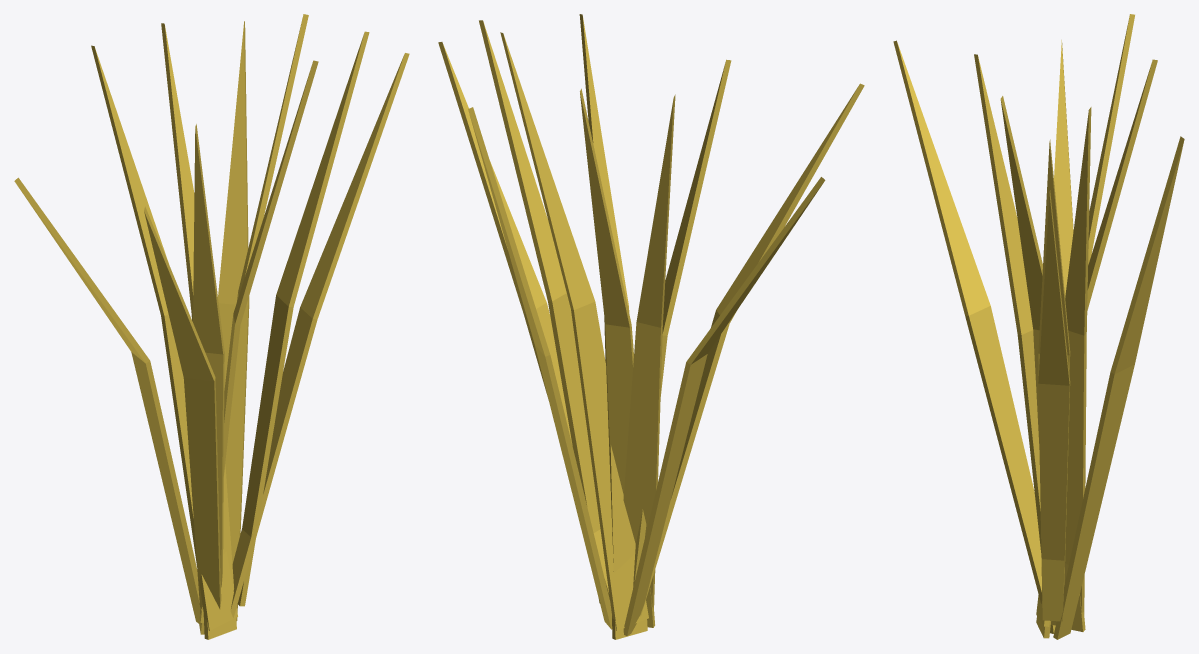
Rendered from espigas.glb.
3 renders of one model, left to right at view 1: azimuth 30°, elevation 25°; view 2: azimuth 150°, elevation 25°; view 3: azimuth 270°, elevation 25°, orthographic.
Visible parts, largest first — view 1: Plane.001; view 2: Plane.001; view 3: Plane.001.
Part boxes in pixels (x1,y1,x2,y2): Plane.001: [14, 14, 409, 639]; Plane.001: [438, 14, 864, 639]; Plane.001: [893, 14, 1184, 639].
Bounding box in the file's own units: 1.62 × 2.3 × 1.05.
